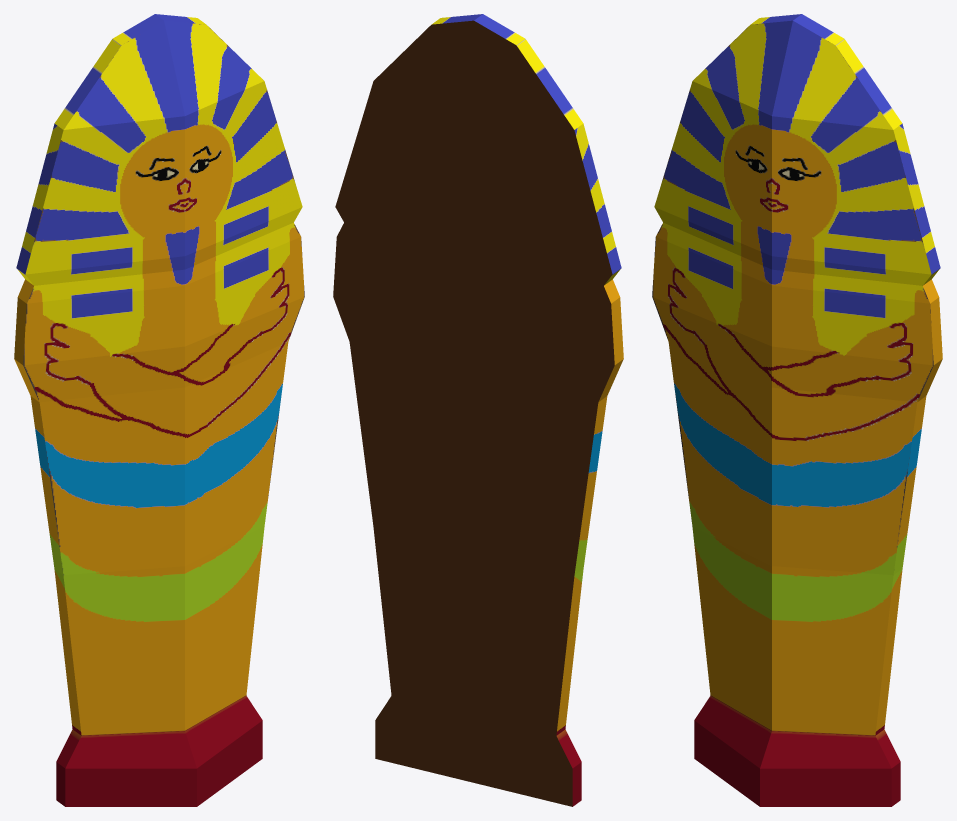
The model's file is Deckel.glb.
3 views of the same model, side by side, from view 1: azimuth 30°, elevation 25°; view 2: azimuth 150°, elevation 25°; view 3: azimuth 330°, elevation 25° (orthographic).
Visible parts, largest first — view 1: Deckel; view 2: Deckel; view 3: Deckel.
Boxes of the visible parts, x1,y1,x2,y2 form: Deckel: (14, 14, 304, 806); Deckel: (333, 14, 623, 806); Deckel: (652, 14, 942, 806).
Size of the model in its own units: 0.8295 by 2.15 by 0.2144.
Materials: 2 (1 with a texture image).
